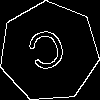C: (24, 27, 72, 81)
